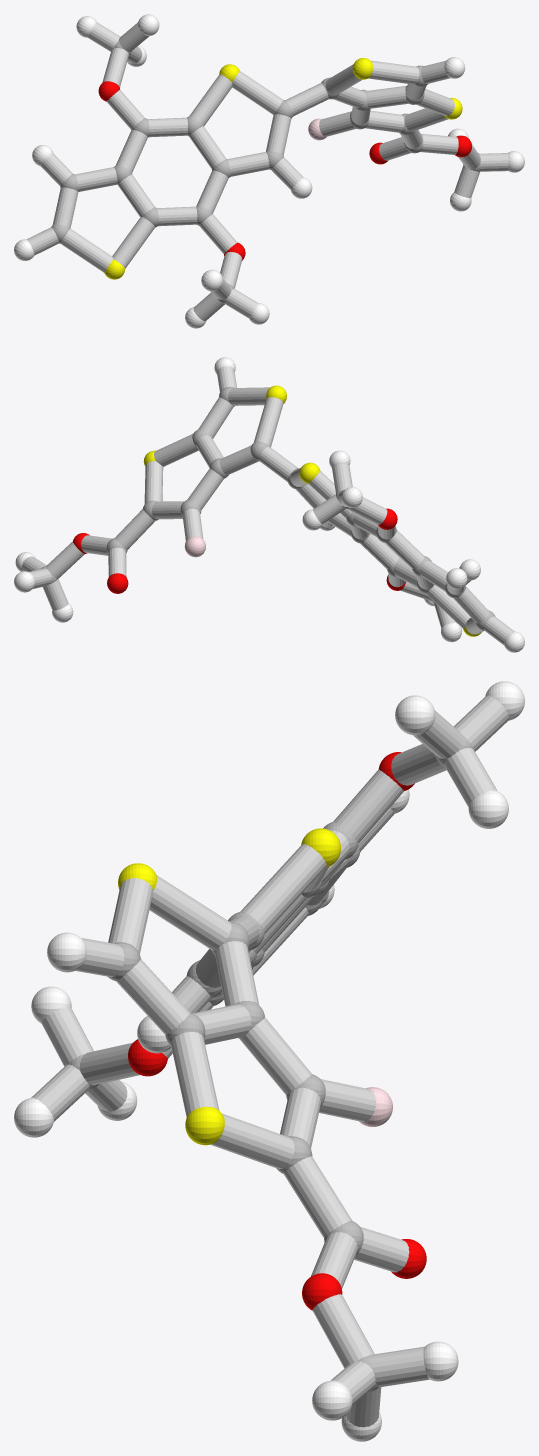
File: color.glb
3 views of the same model, one above another, from view 1: azimuth 30°, elevation 25°; view 2: azimuth 150°, elevation 25°; view 3: azimuth 270°, elevation 25° (orthographic). The views are drawn at different scales.
Visible parts, largest first — view 1: grp15205, grp8689, grp1, grp7241, grp13395; view 2: grp15205, grp8689, grp1, grp13395, grp7241, grp14843; view 3: grp15205, grp8689, grp1, grp13395, grp7241.
Boxes of the visible parts, <box> form: grp15205: <box>27,22,508,321</box>; grp8689: <box>14,14,524,328</box>; grp1: <box>51,40,480,303</box>; grp7241: <box>104,58,462,279</box>; grp13395: <box>98,81,471,260</box>; grp15205: <box>22,366,514,644</box>; grp8689: <box>14,357,524,652</box>; grp1: <box>41,386,495,630</box>; grp13395: <box>73,508,406,593</box>; grp7241: <box>143,385,481,636</box>; grp14843: <box>184,536,205,557</box>; grp15205: <box>31,695,509,1427</box>; grp8689: <box>14,681,524,1441</box>; grp1: <box>67,734,473,1391</box>; grp13395: <box>128,752,426,1310</box>; grp7241: <box>118,828,340,1145</box>.
Size of the model in its own units: 16.24 by 7.78 by 7.59.
